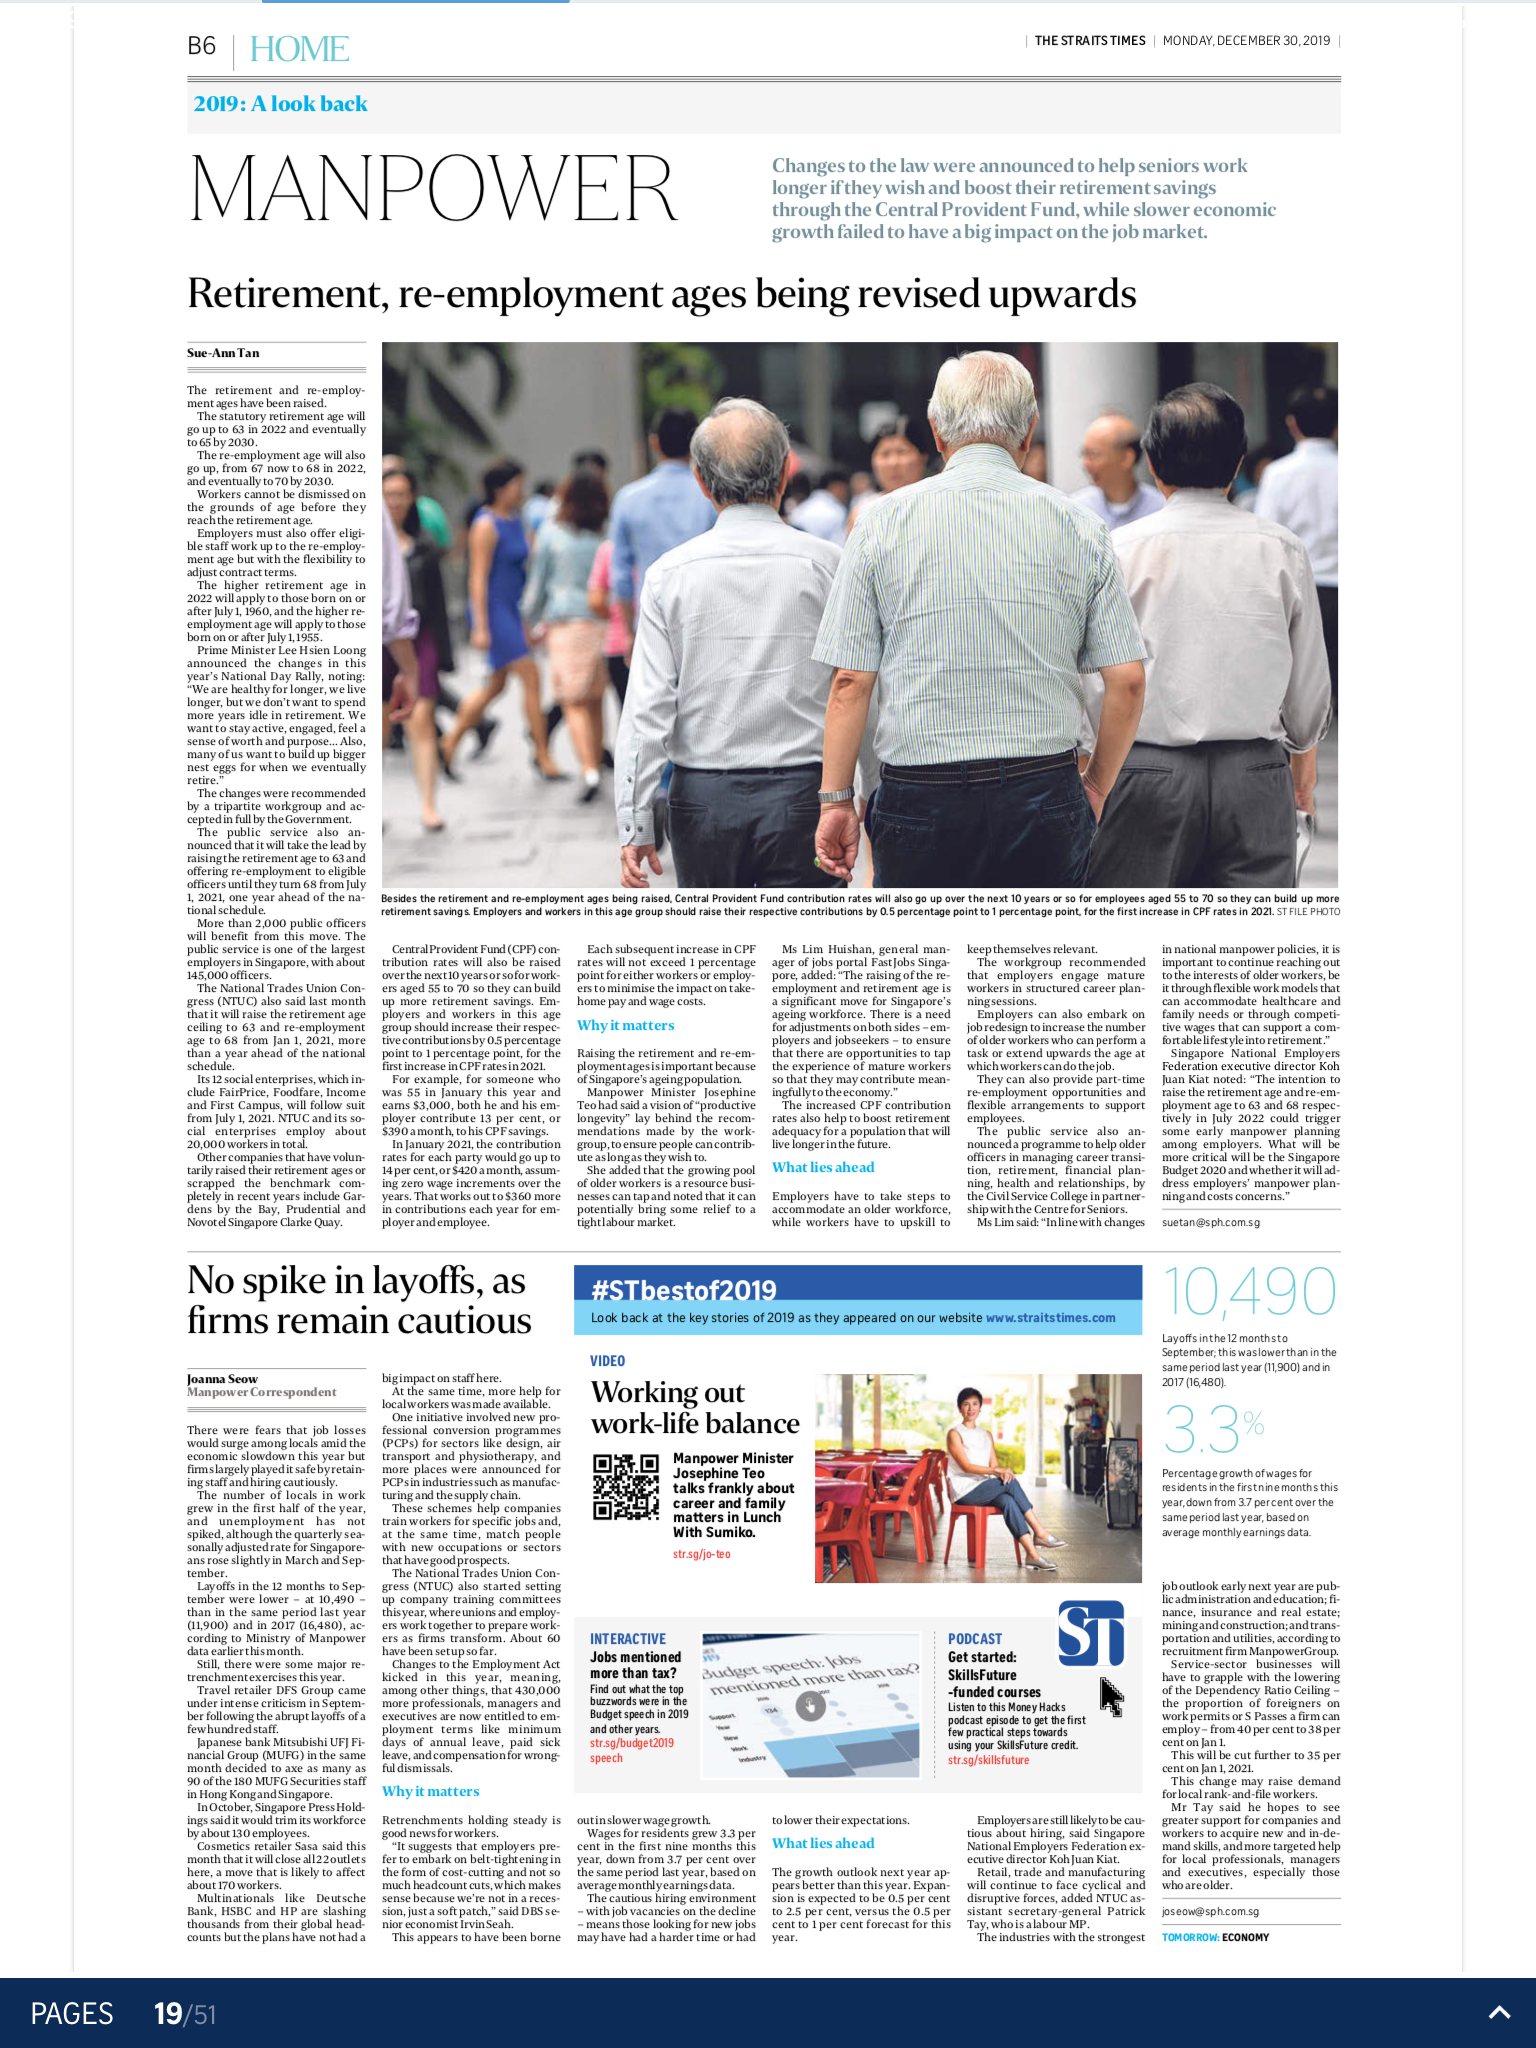Byline: (182, 1371, 340, 1401), (184, 343, 263, 361)
Headline: (181, 266, 1146, 323), (179, 139, 691, 240), (181, 1258, 537, 1340), (586, 1345, 803, 1442), (942, 1621, 1054, 1700), (584, 1625, 695, 1684), (768, 1147, 887, 1180), (770, 1829, 884, 1859), (378, 1777, 486, 1809), (566, 1009, 686, 1039)
Illustration: (378, 892, 1347, 922)
Image: (379, 347, 1346, 893), (805, 1359, 1149, 1580), (703, 1632, 925, 1779)
Text: (184, 377, 374, 1238), (182, 1417, 378, 1954), (378, 1359, 566, 1779), (957, 929, 1154, 1247), (1160, 1574, 1339, 1898), (374, 935, 560, 1235), (1155, 932, 1354, 1211), (760, 152, 1284, 248), (765, 935, 960, 1155), (568, 1043, 765, 1232), (962, 1809, 1154, 1954), (381, 1809, 566, 1956), (578, 1808, 766, 1951), (1158, 1398, 1346, 1540), (1160, 1256, 1346, 1393), (766, 1856, 954, 1951), (670, 1447, 802, 1563), (574, 930, 762, 1011), (941, 1700, 1092, 1772), (581, 1680, 694, 1769), (766, 1184, 957, 1232), (763, 1800, 918, 1834)
